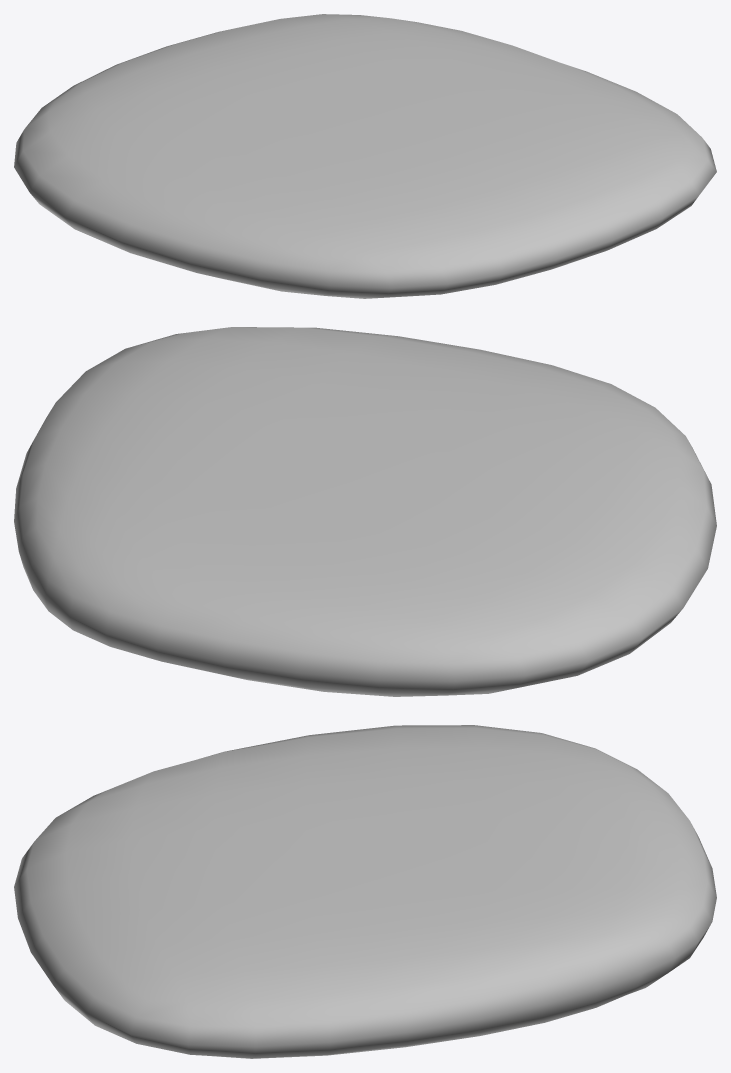
Rendered from Town_7_Stone_3.glb.
The picture shows the model from 3 angles, top to bottom: view 1: azimuth 30°, elevation 25°; view 2: azimuth 150°, elevation 25°; view 3: azimuth 270°, elevation 25°; orthographic projection. The views are drawn at different scales.
Parts seen in each view (by area): view 1: Town_7_Stone_3; view 2: Town_7_Stone_3; view 3: Town_7_Stone_3.
Boxes of the visible parts, bbox=[...] form: Town_7_Stone_3: bbox=[14, 14, 716, 298]; Town_7_Stone_3: bbox=[14, 327, 716, 696]; Town_7_Stone_3: bbox=[14, 725, 716, 1058].
Bounding box in the file's own units: 0.8623 × 0.114 × 0.8238.
Materials: 1 (1 with a texture image).
